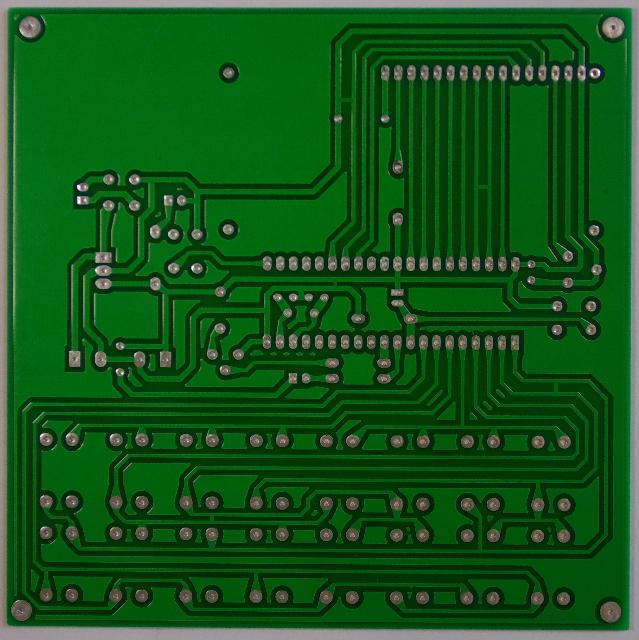short: (548, 374, 564, 398), (472, 178, 494, 195), (334, 92, 357, 106), (329, 274, 343, 294), (206, 510, 218, 524)
